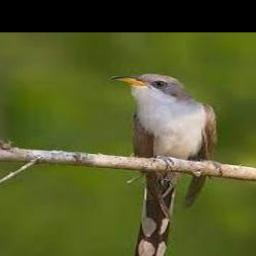Cuckoo: (109, 74, 216, 256)
